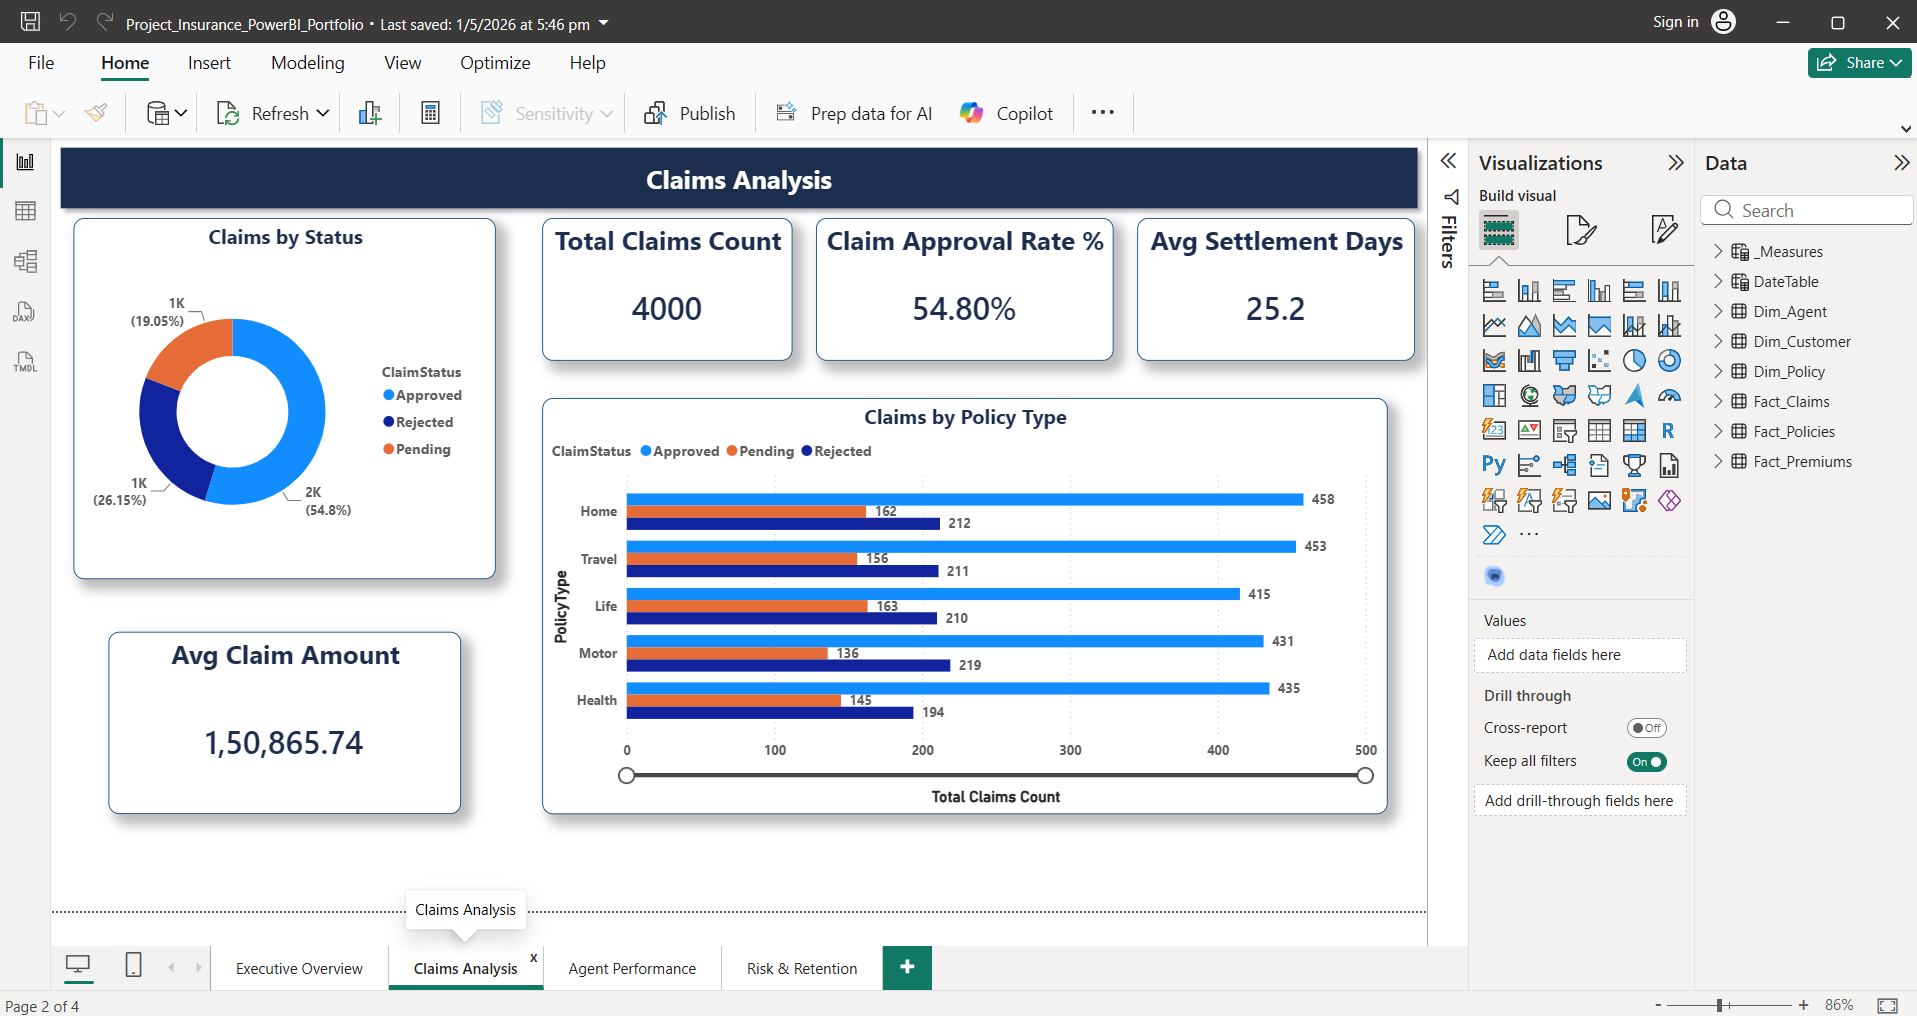

This screenshot's page, from the dashboard's own definition file:
{"tool":"powerbi","page":{"name":"Claims Analysis","canvas":[1280,720],"ordinal":1},"visuals":[{"type":"shape","box":[0,0,1280.2,74.4],"z":0},{"type":"cardVisual","title":"Total Claims Count","fields":{"Data":["_Measures.Total Claims Count"]},"box":[457.4,74.4,232.6,132.6],"z":1000},{"type":"cardVisual","title":"Claim Approval Rate %","fields":{"Data":["_Measures.Claim Approval Rate %"]},"box":[711.6,74.4,276.7,132.6],"z":2000},{"type":"cardVisual","title":"Avg Settlement Days","fields":{"Data":["_Measures.Avg Settlement Days"]},"box":[1010.5,74.4,258.1,132.6],"z":3000},{"type":"donutChart","title":"Claims by Status","fields":{"Category":["Fact_Claims.ClaimStatus"],"Y":["_Measures.Total Claims Count"]},"box":[20.9,74.4,393,336],"z":4000},{"type":"clusteredBarChart","title":"Claims by Policy Type","fields":{"Category":["Dim_Policy.PolicyType"],"Y":["_Measures.Total Claims Count"],"Series":["Fact_Claims.ClaimStatus"]},"box":[457,241.9,786,387.2],"z":5000},{"type":"cardVisual","title":"Avg Claim Amount","fields":{"Data":["_Measures.Average Claim Amount"]},"box":[53.5,459.3,327.9,169.8],"z":6000}]}

Visuals, with their boxes on the page's 1280x720 design canvas (x1, y1, x2, y2). These are canvas units, not pixel positions in the 1917x1016 screenshot, which may show the page scaled, cropped or inside an application window:
shape: rect(0, 0, 1280, 74)
"Total Claims Count" cardVisual: rect(457, 74, 690, 207)
"Claim Approval Rate %" cardVisual: rect(712, 74, 988, 207)
"Avg Settlement Days" cardVisual: rect(1010, 74, 1269, 207)
"Claims by Status" donutChart: rect(21, 74, 414, 410)
"Claims by Policy Type" clusteredBarChart: rect(457, 242, 1243, 629)
"Avg Claim Amount" cardVisual: rect(54, 459, 381, 629)
